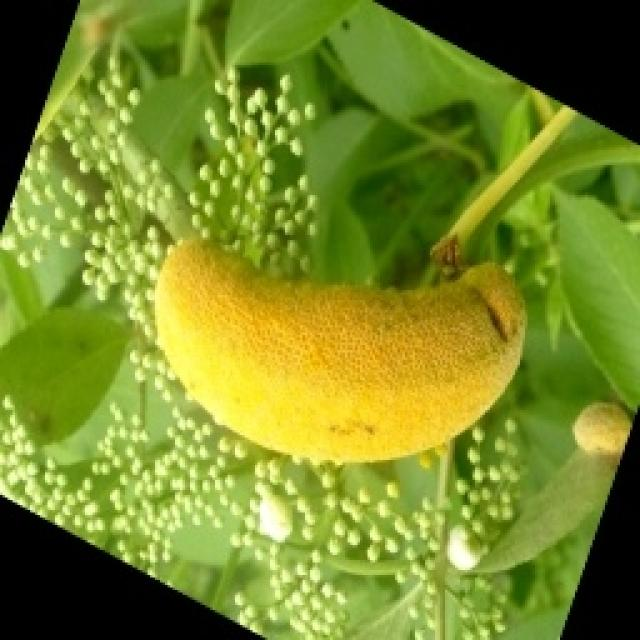Elderberry_rust: (150, 232, 528, 462)
